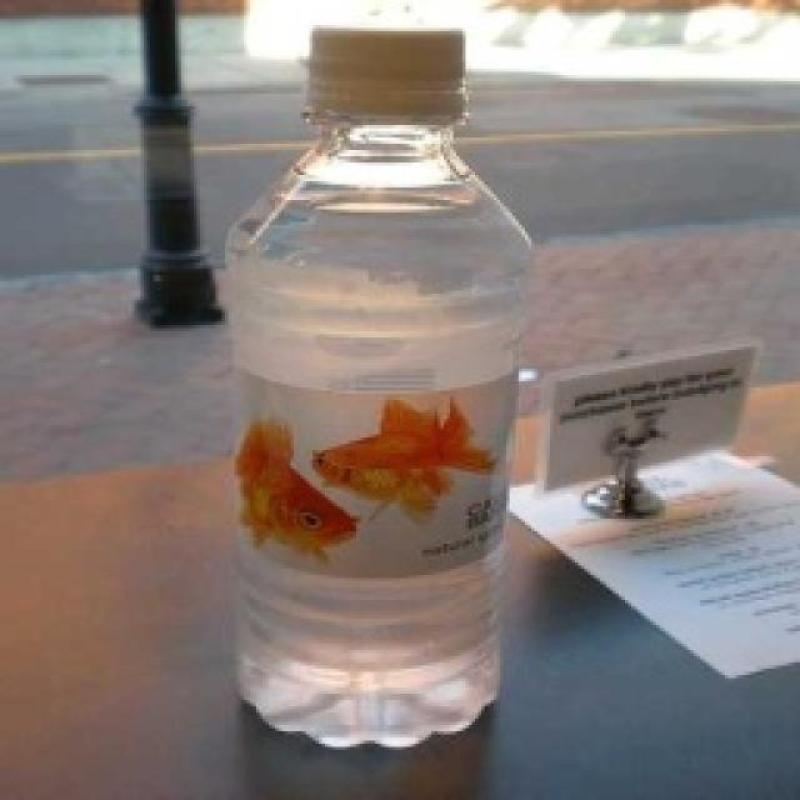botella: (225, 27, 535, 758)
